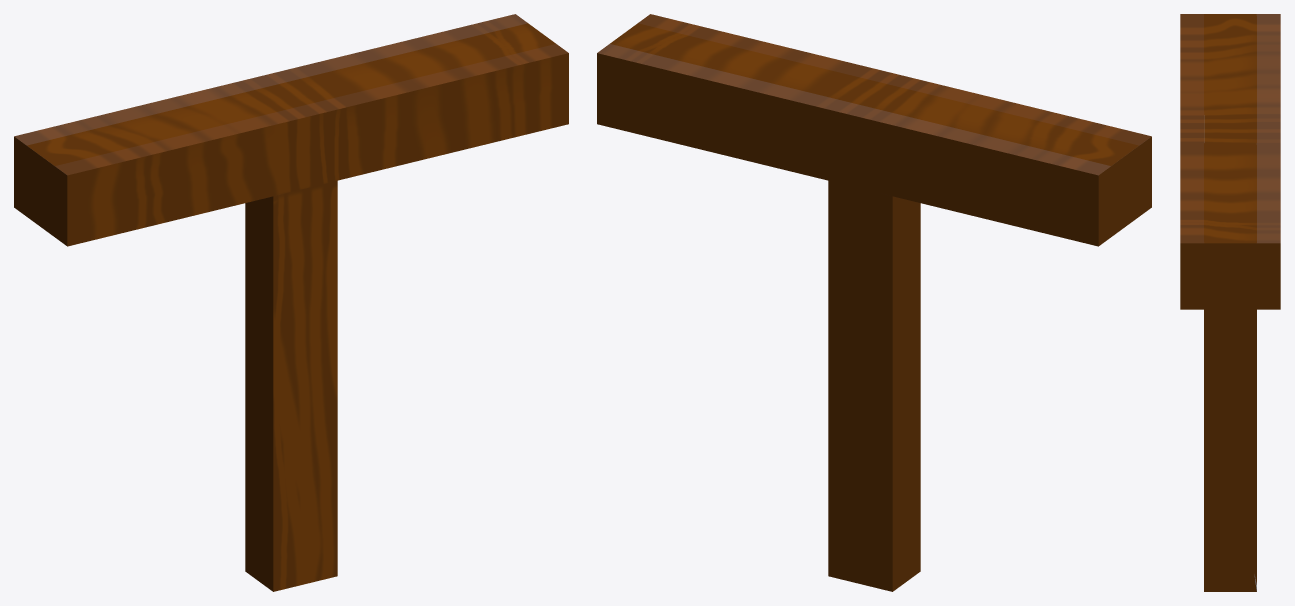
The model's file is Level2-1-LowerPart.fbx.
The picture shows the model from 3 angles, left to right: view 1: azimuth 30°, elevation 25°; view 2: azimuth 150°, elevation 25°; view 3: azimuth 270°, elevation 25°; orthographic projection. The views are drawn at different scales.
Visible parts, largest first — view 1: Cube; view 2: Cube; view 3: Cube.
Boxes of the visible parts, x1,y1,x2,y2 form: Cube: (14,14,568,591); Cube: (597,14,1151,591); Cube: (1180,14,1280,591).
Bounding box in the file's own units: 1133 × 1034 × 209.
